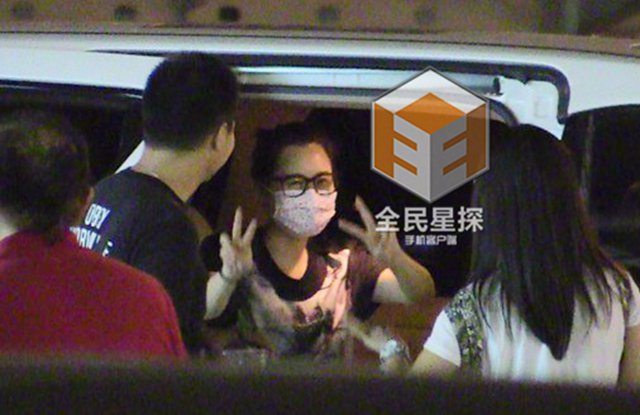face_mask: (269, 145, 336, 236)
